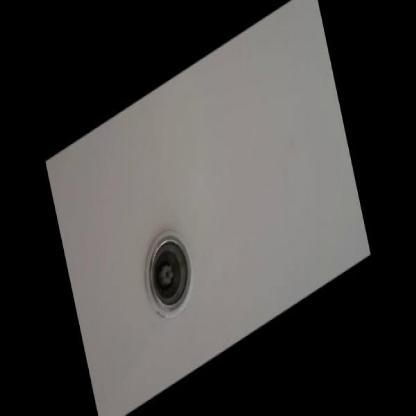light_off: (129, 199, 207, 336)
